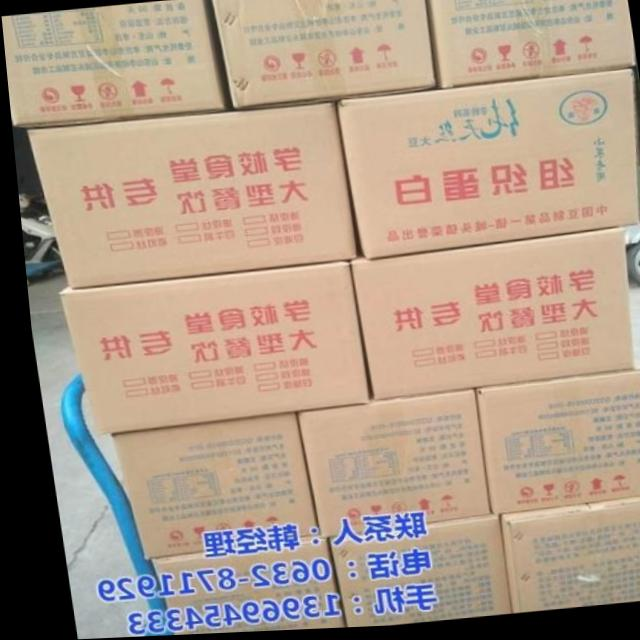box: (24, 106, 352, 290), (333, 74, 638, 263), (53, 262, 360, 437), (346, 231, 627, 403), (103, 415, 306, 562), (1, 0, 231, 128), (286, 393, 478, 541), (467, 361, 640, 518), (211, 0, 433, 111), (316, 517, 497, 630), (424, 0, 634, 93), (141, 540, 334, 636), (489, 500, 640, 618)
